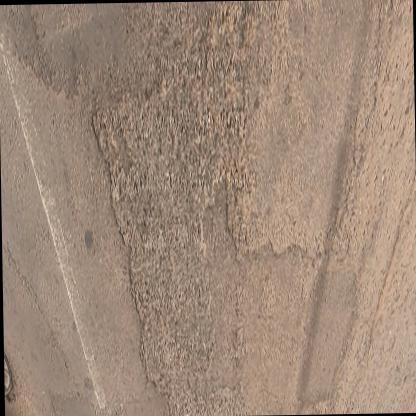manholes: (2, 328, 14, 416)
